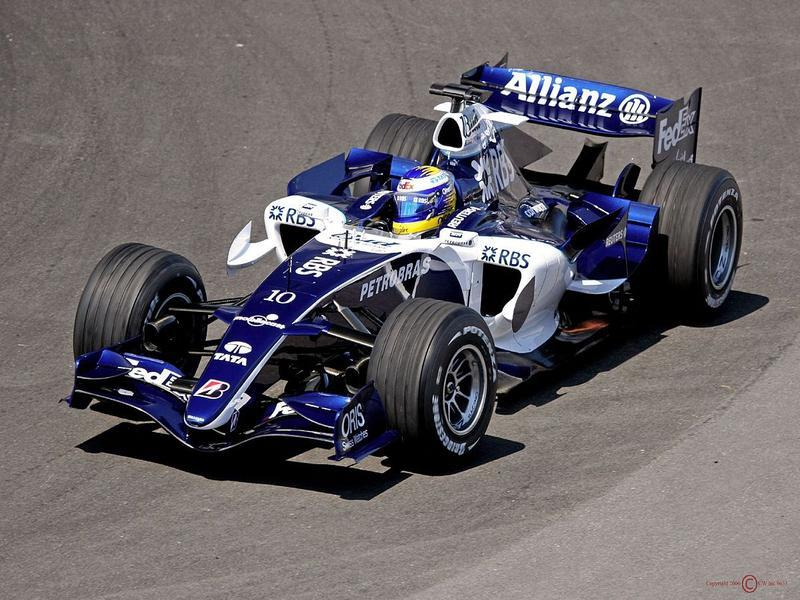f1: (86, 39, 755, 494)
